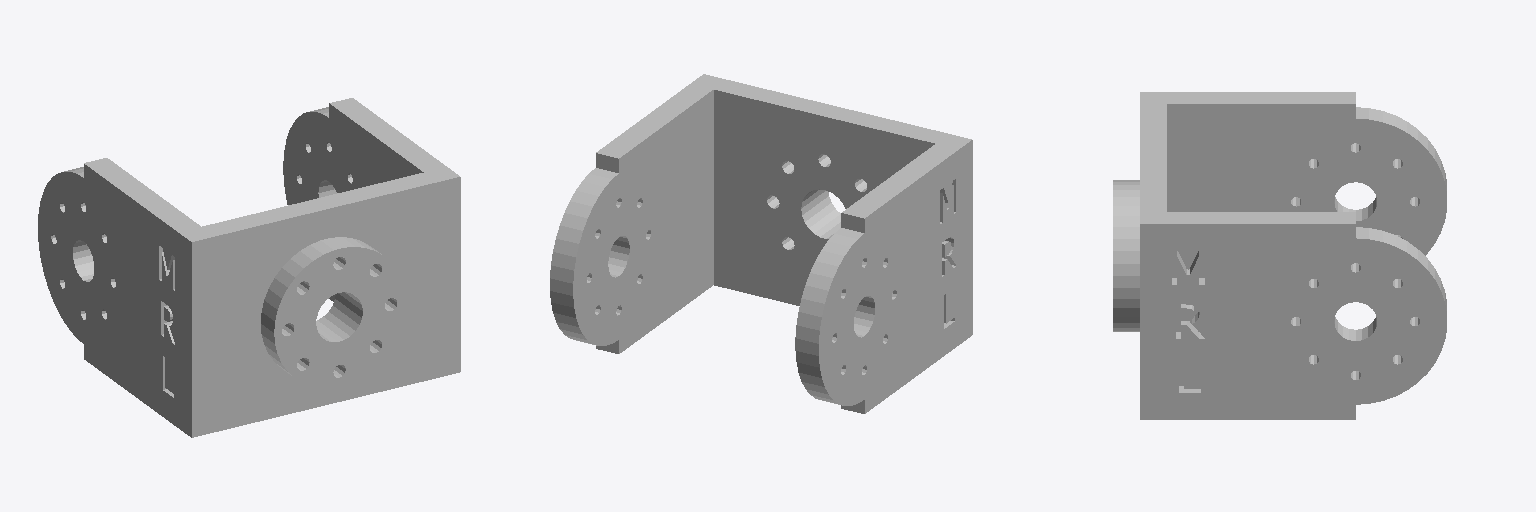
Rendered from Shoulder.obj.
3 views of the same model, side by side, from view 1: azimuth 30°, elevation 25°; view 2: azimuth 150°, elevation 25°; view 3: azimuth 270°, elevation 25° (orthographic).
Size of the model in its own units: 5.75 by 4 by 6.2.